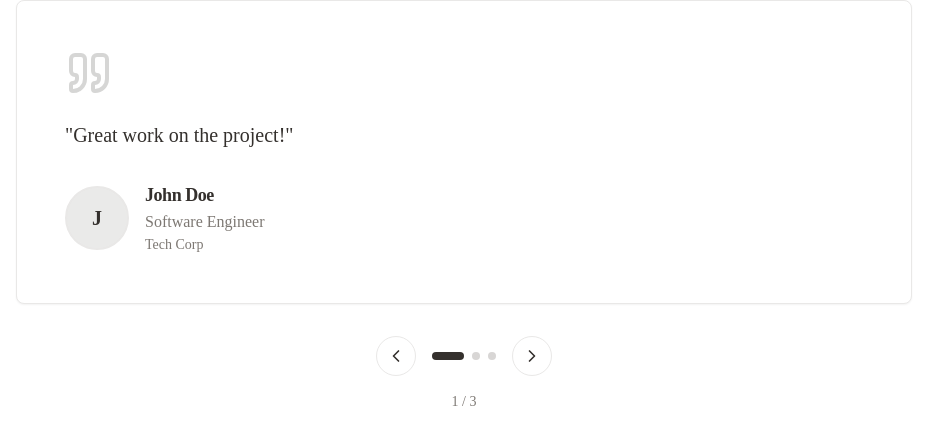
Test: TestimonialsCarousel › should display correct position indicators
Expected: the text "1 / 3" is shown, [452,394,476,409]
Navigate to next
Click the button named "Next testimonial": {"x": 532, "y": 356} [512,336,552,376]
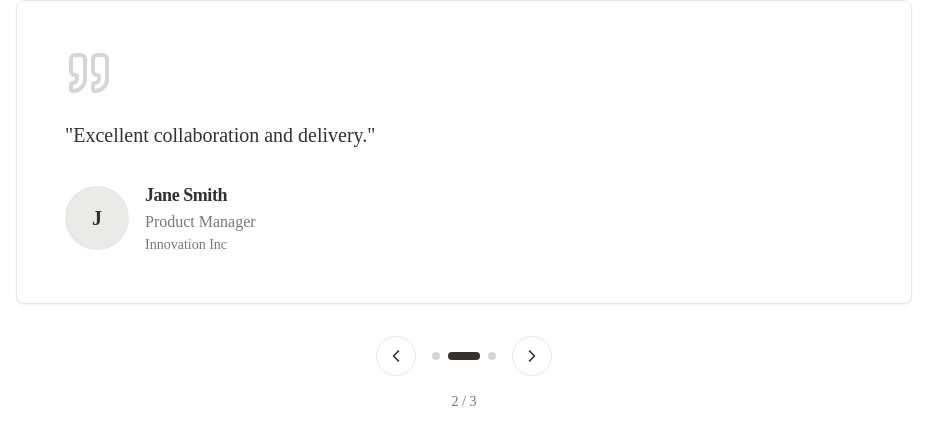
Expected: the text "2 / 3" is shown, [452,394,476,409]
